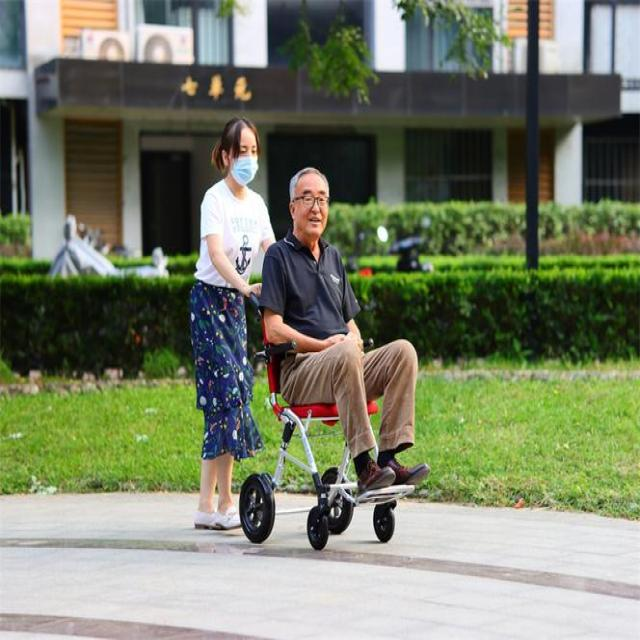wheelchairs: (237, 285, 403, 553)
